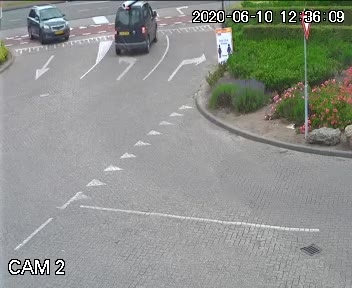car: (111, 1, 162, 59), (22, 4, 69, 51)
